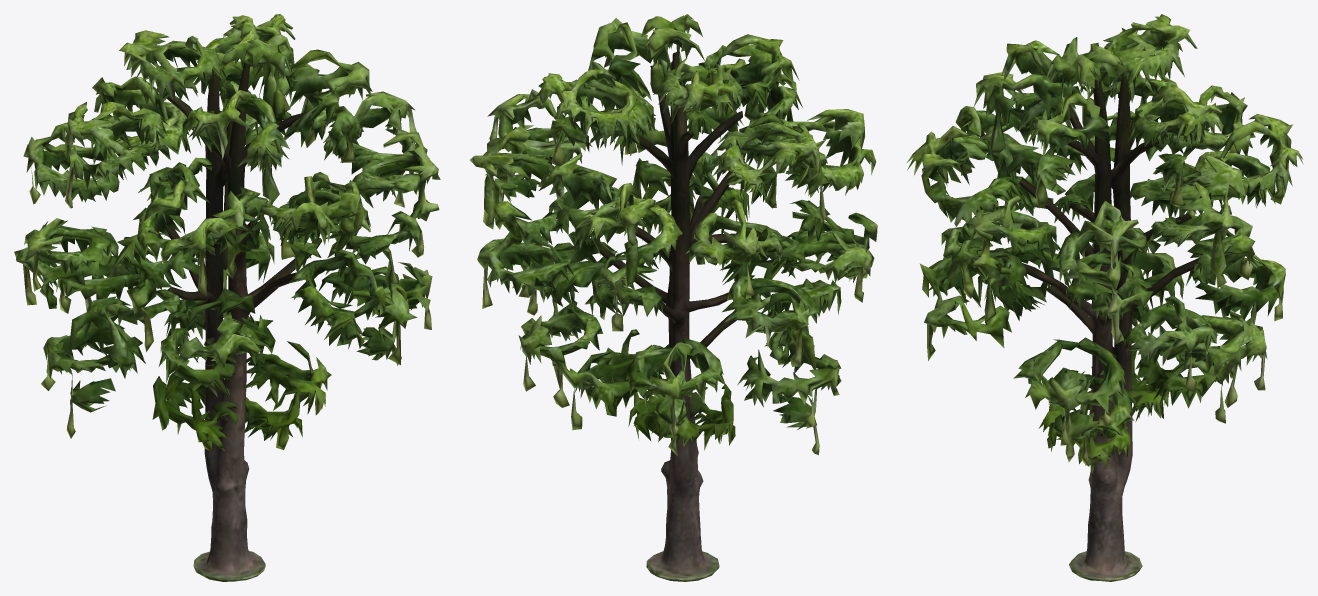
Rendered from mango_b.glb.
3 views of the same model, side by side, from view 1: azimuth 30°, elevation 25°; view 2: azimuth 150°, elevation 25°; view 3: azimuth 270°, elevation 25° (orthographic).
Visible parts, largest first — view 1: mango_b; view 2: mango_b; view 3: mango_b.
Boxes of the visible parts, <box> form: mango_b: <box>14,14,440,581</box>; mango_b: <box>470,14,877,581</box>; mango_b: <box>907,14,1303,581</box>.
Size of the model in its own units: 0.7454 by 0.9819 by 0.6631.
Materials: 1 (1 with a texture image).
